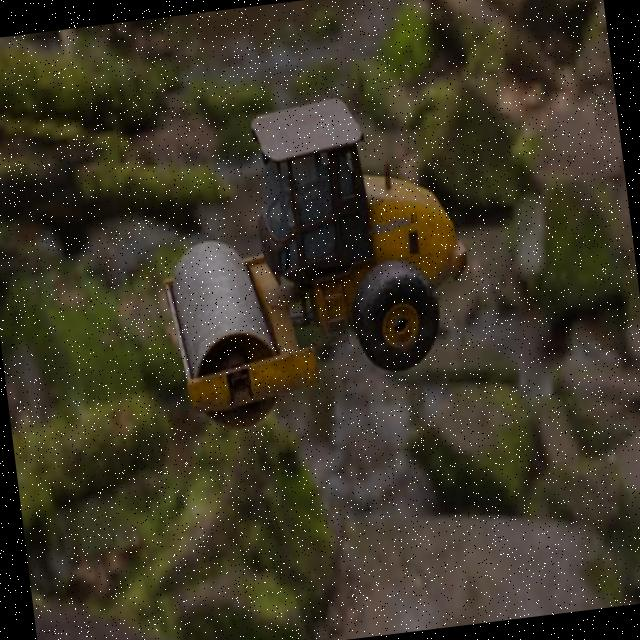Roller: (142, 84, 484, 436)
